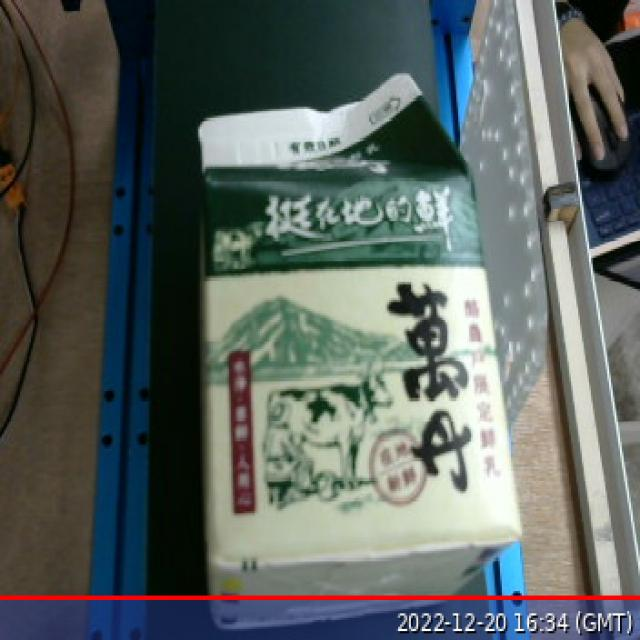non_white_jug: (162, 76, 525, 599)
